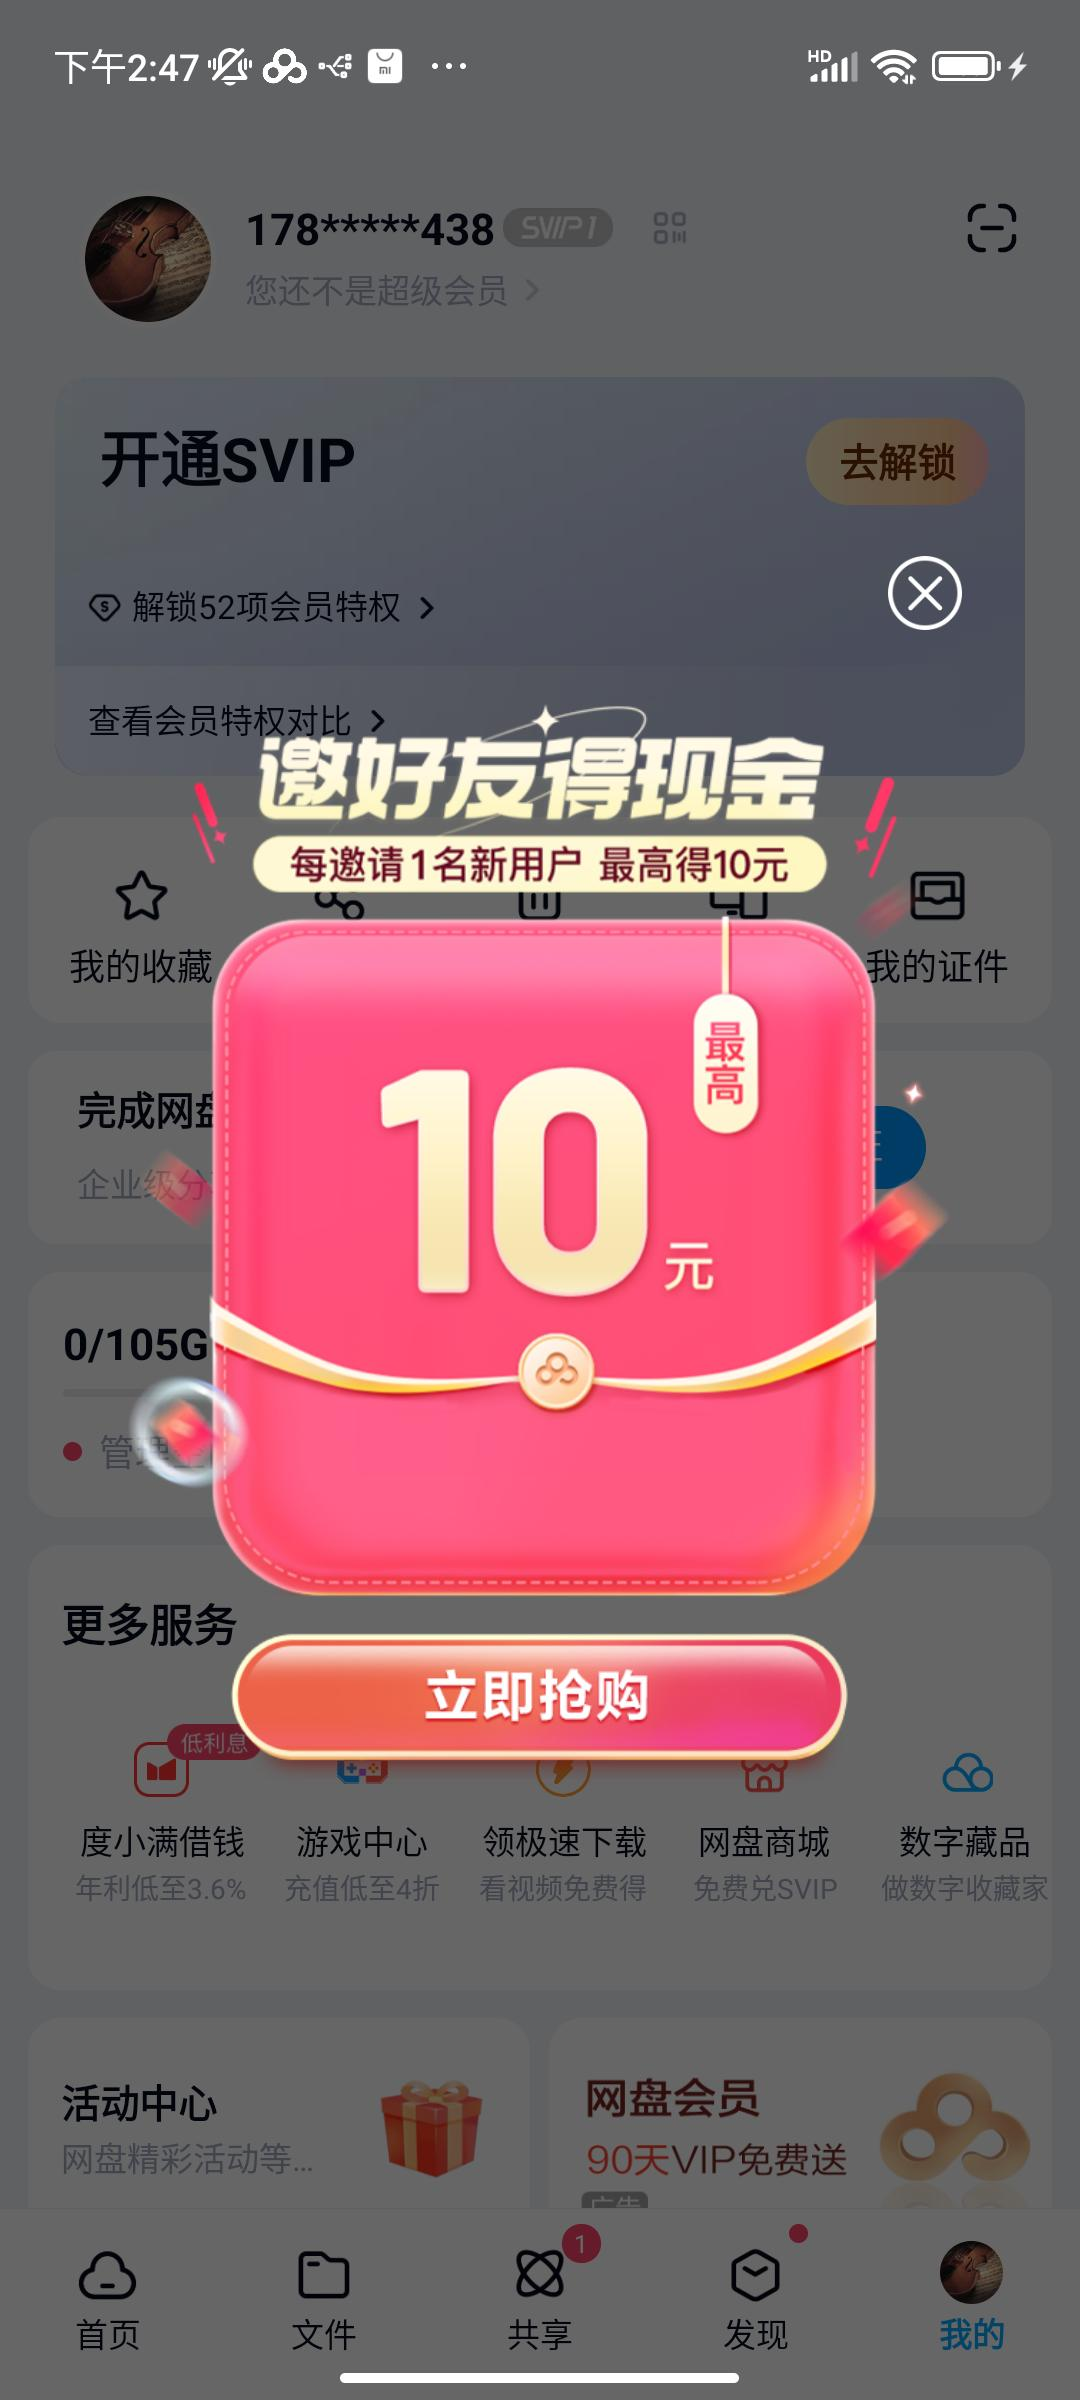ui_group: (207, 730, 880, 1763)
